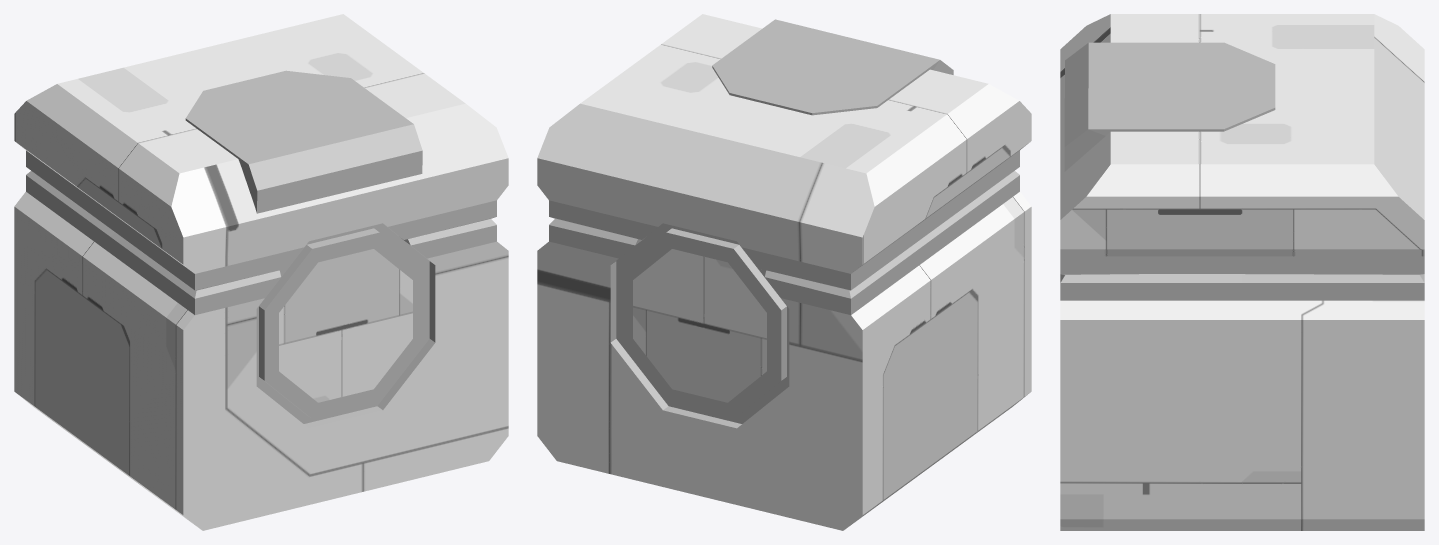
The model's file is SM_ContainerM_Box_2.fbx.
3 views of the same model, side by side, from view 1: azimuth 30°, elevation 25°; view 2: azimuth 150°, elevation 25°; view 3: azimuth 270°, elevation 25° (orthographic). The views are drawn at different scales.
Visible parts, largest first — view 1: SM_ContainerM_Box_2; view 2: SM_ContainerM_Box_2; view 3: SM_ContainerM_Box_2.
Boxes of the visible parts, x1,y1,x2,y2 form: SM_ContainerM_Box_2: (14, 14, 508, 530); SM_ContainerM_Box_2: (537, 14, 1031, 530); SM_ContainerM_Box_2: (1060, 14, 1424, 530).
Bounding box in the file's own units: 80 × 80.52 × 72.
